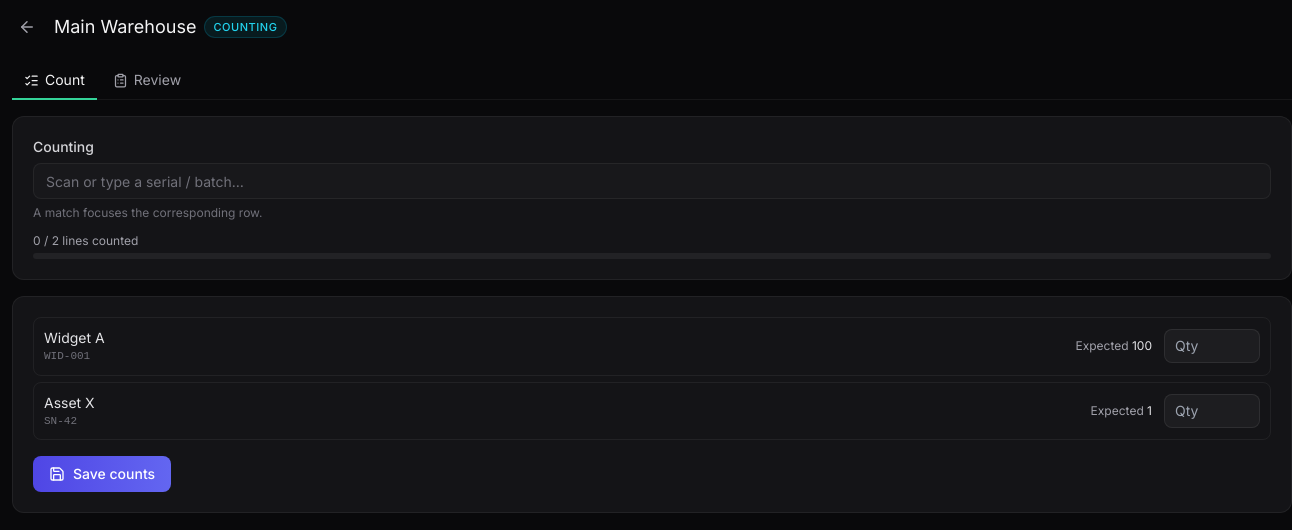
it: StocktakeView — count tab › progress reflects counted inputs
Expected: the text with test id "progress-label" shows "0 / 2", x1=33 y1=233 x2=138 y2=248
Type "97" into the number field with test id "count-input-line-bulk" at (1212, 346), box x1=1164 y1=329 x2=1260 y2=363
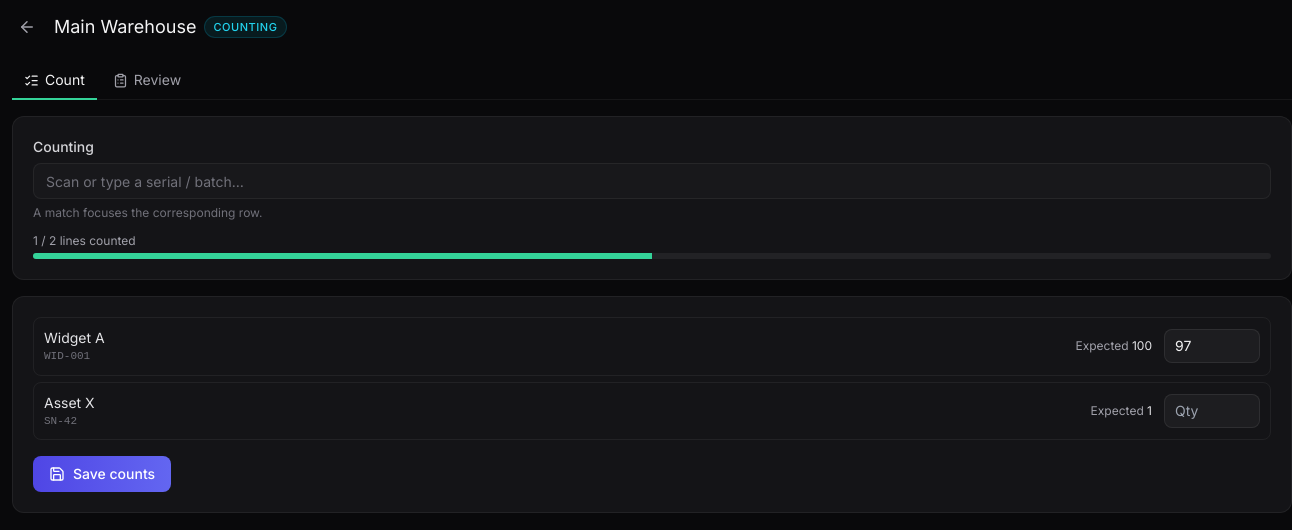
Now the text with test id "progress-label" shows "1 / 2", box x1=33 y1=233 x2=136 y2=248
